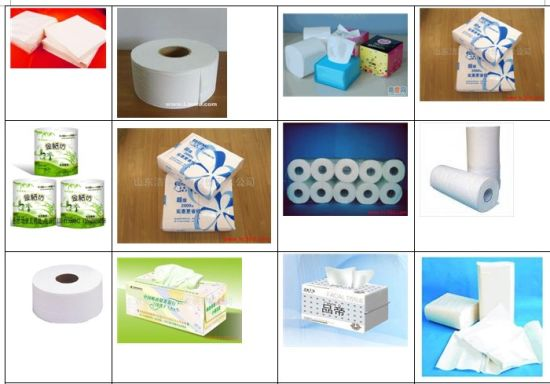Tissue: (128, 35, 220, 112), (430, 123, 506, 214), (31, 264, 104, 325), (325, 262, 376, 291)
